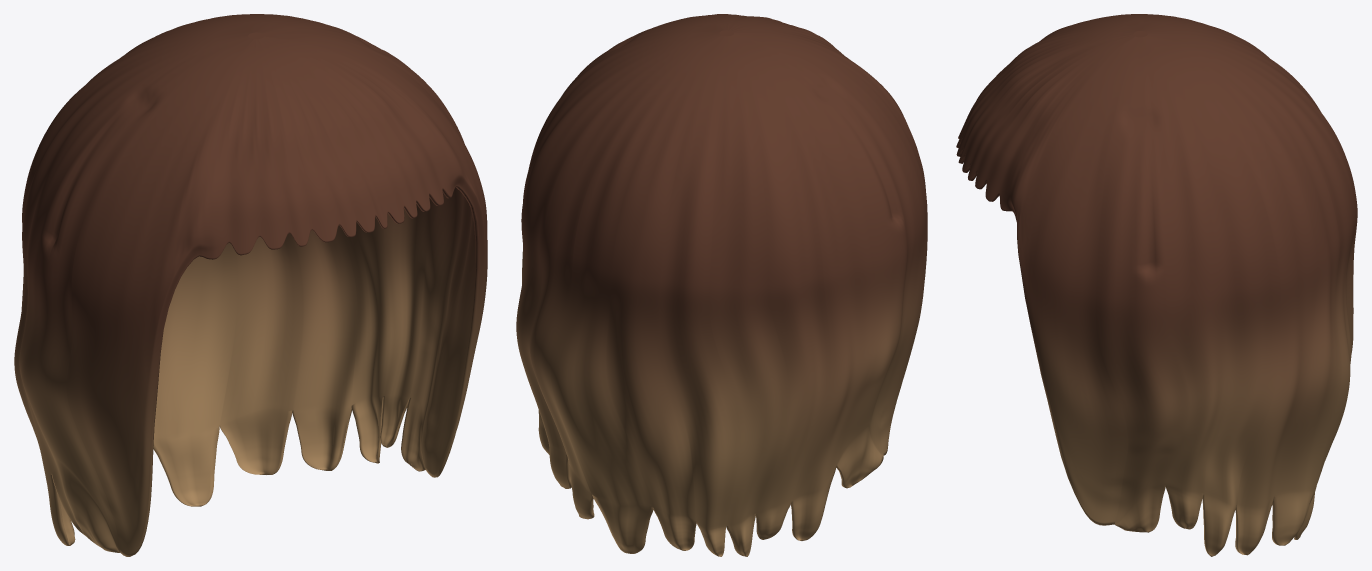
The model's file is long-ears-ombre.glb.
3 renders of one model, left to right at view 1: azimuth 30°, elevation 25°; view 2: azimuth 150°, elevation 25°; view 3: azimuth 270°, elevation 25°, orthographic. The views are drawn at different scales.
Visible parts, largest first — view 1: Hair / rounded long fringe; view 2: Hair / rounded long fringe; view 3: Hair / rounded long fringe.
Boxes of the visible parts, box(x1,y1,x2,y2) form: Hair / rounded long fringe: box(14, 14, 487, 556); Hair / rounded long fringe: box(516, 14, 927, 556); Hair / rounded long fringe: box(956, 14, 1357, 556).
Bounding box in the file's own units: 0.8534 × 1.06 × 0.7801.
